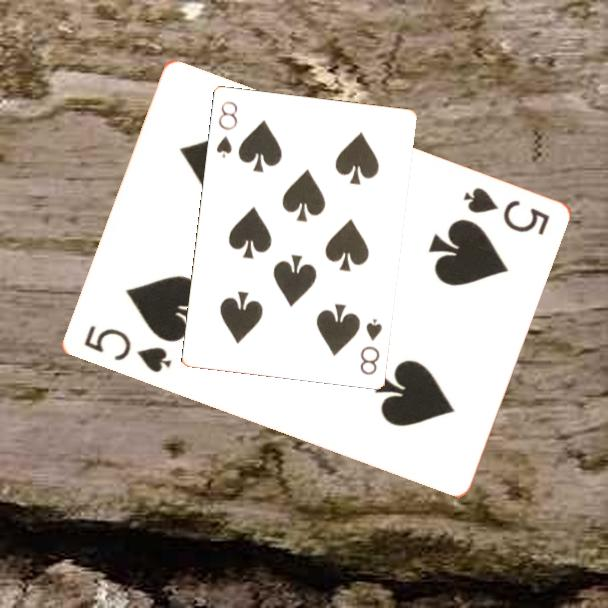s05: (80, 322, 174, 376), (459, 184, 552, 238)
s08: (356, 315, 385, 377), (213, 97, 240, 160)
